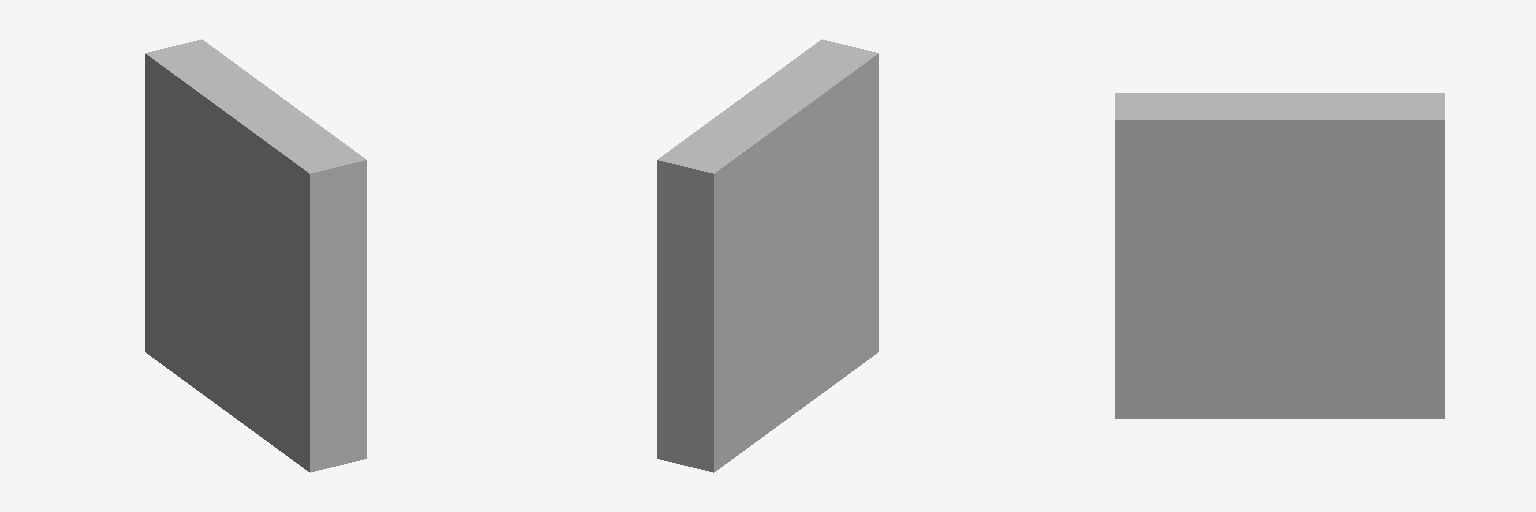
Rendered from wall(middle).obj.
The picture shows the model from 3 angles: view 1: azimuth 30°, elevation 25°; view 2: azimuth 150°, elevation 25°; view 3: azimuth 270°, elevation 25°; orthographic projection.
Parts seen in each view (by area): view 1: wall(middle); view 2: wall(middle); view 3: wall(middle).
Part boxes in pixels (bbox=[...]): wall(middle): bbox=[145, 39, 366, 472]; wall(middle): bbox=[657, 39, 878, 472]; wall(middle): bbox=[1115, 93, 1444, 418].
Size of the model in its own units: 0.2 by 1 by 1.